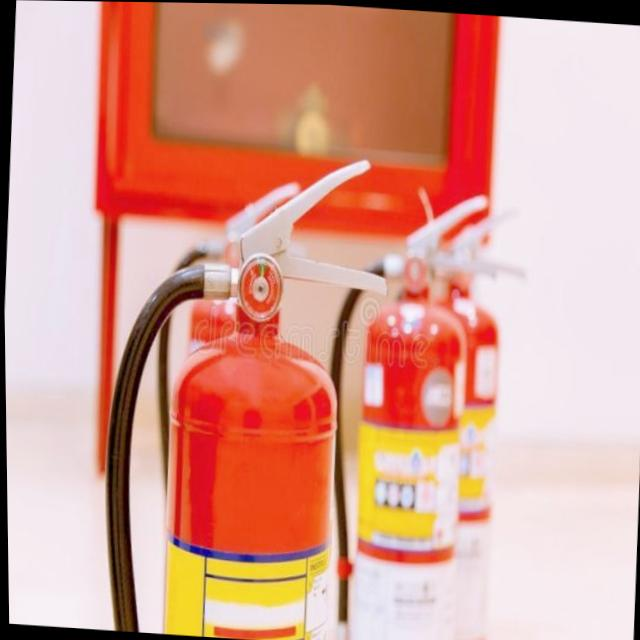FireExtinguisher: (87, 131, 399, 640), (304, 178, 504, 640), (354, 180, 542, 640)
